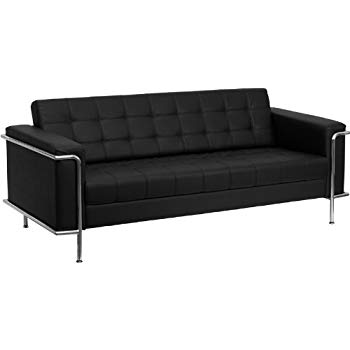chairs: (3, 88, 350, 264)
